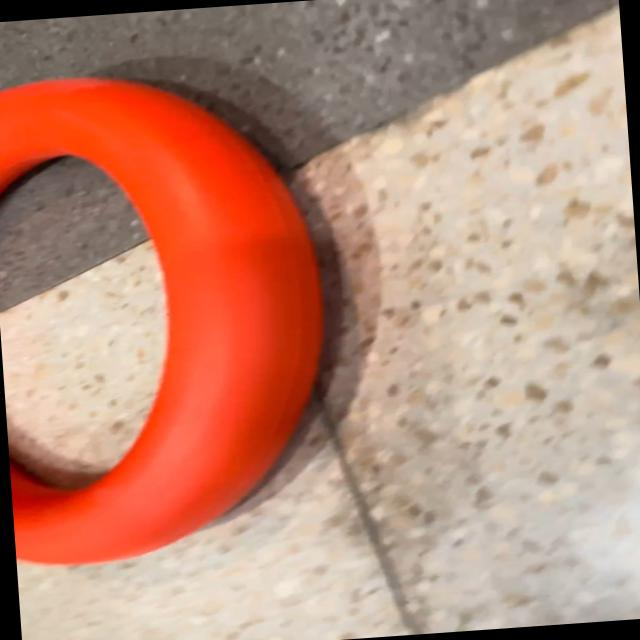note: (0, 59, 343, 570)
